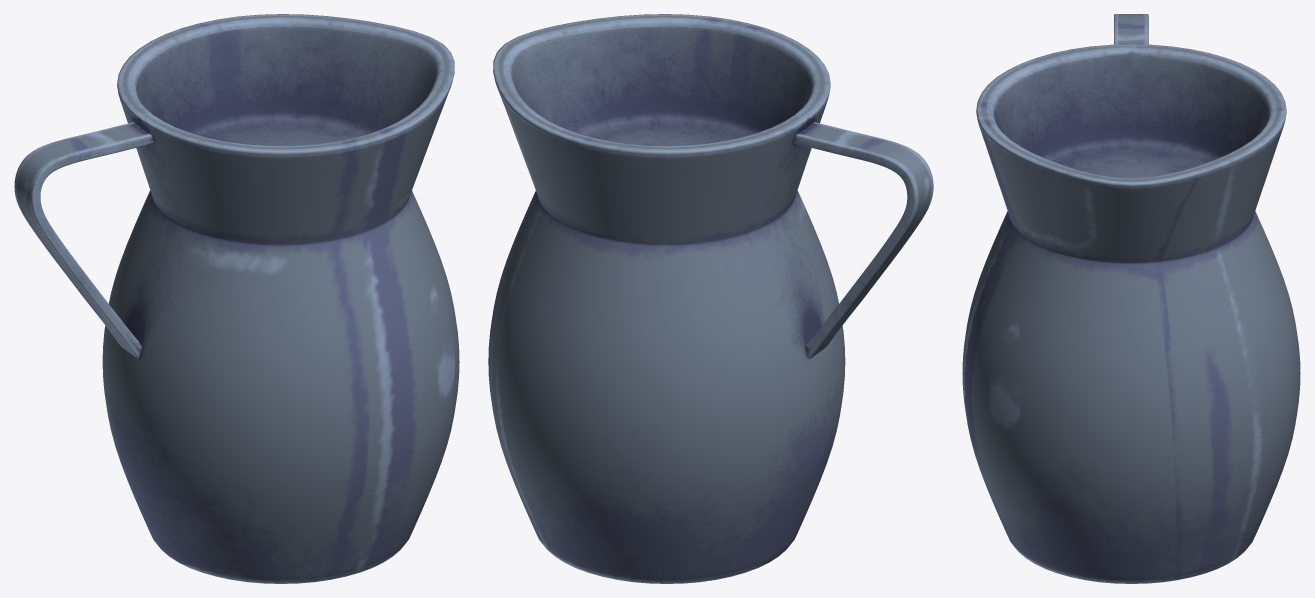
File: Hot_Chocolate_Maker_Textured.fbx
3 renders of one model, left to right at view 1: azimuth 30°, elevation 25°; view 2: azimuth 150°, elevation 25°; view 3: azimuth 270°, elevation 25°, orthographic. The views are drawn at different scales.
Visible parts, largest first — view 1: hcm_01, hcm_02; view 2: hcm_01, hcm_02; view 3: hcm_01, hcm_02.
Part boxes in pixels (<box>): hcm_01: <box>102,14,459,583</box>; hcm_02: <box>14,122,153,358</box>; hcm_01: <box>488,14,845,583</box>; hcm_02: <box>794,122,933,358</box>; hcm_01: <box>962,44,1300,583</box>; hcm_02: <box>1114,14,1148,44</box>.
Bounding box in the file's own units: 0.9375 × 0.9593 × 0.6899.
1 material, 1 textured.
